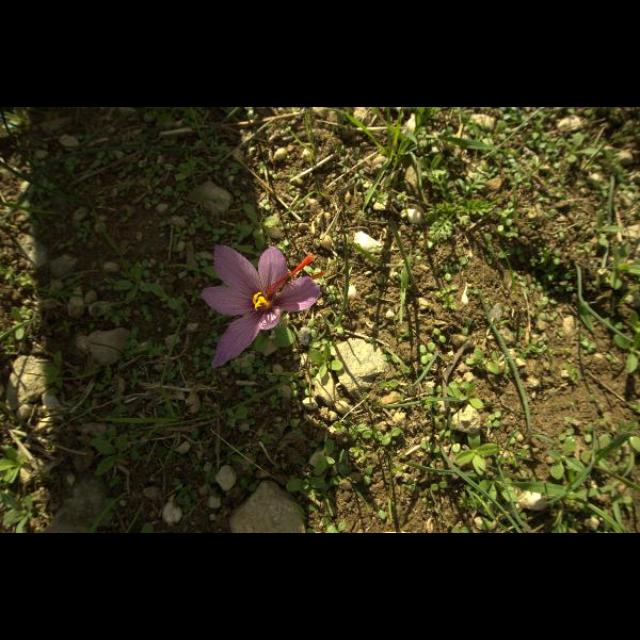flower: (199, 242, 323, 370)
